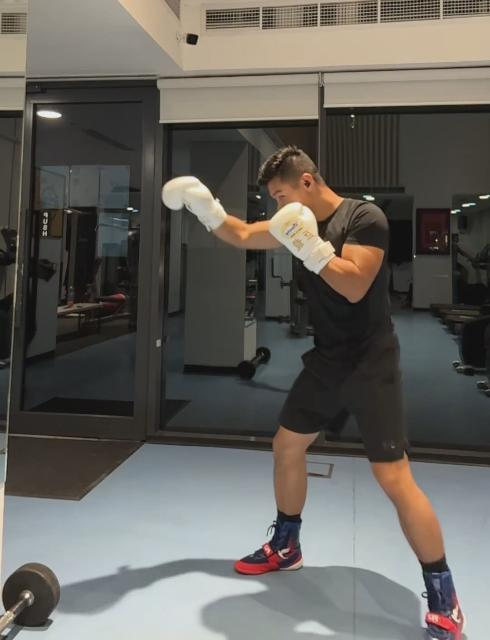punch: (164, 146, 466, 640)
